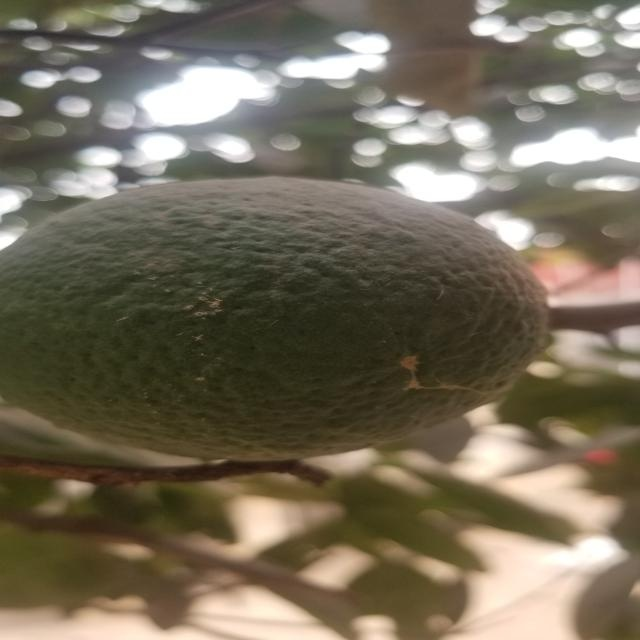agrume: (16, 173, 572, 467)
